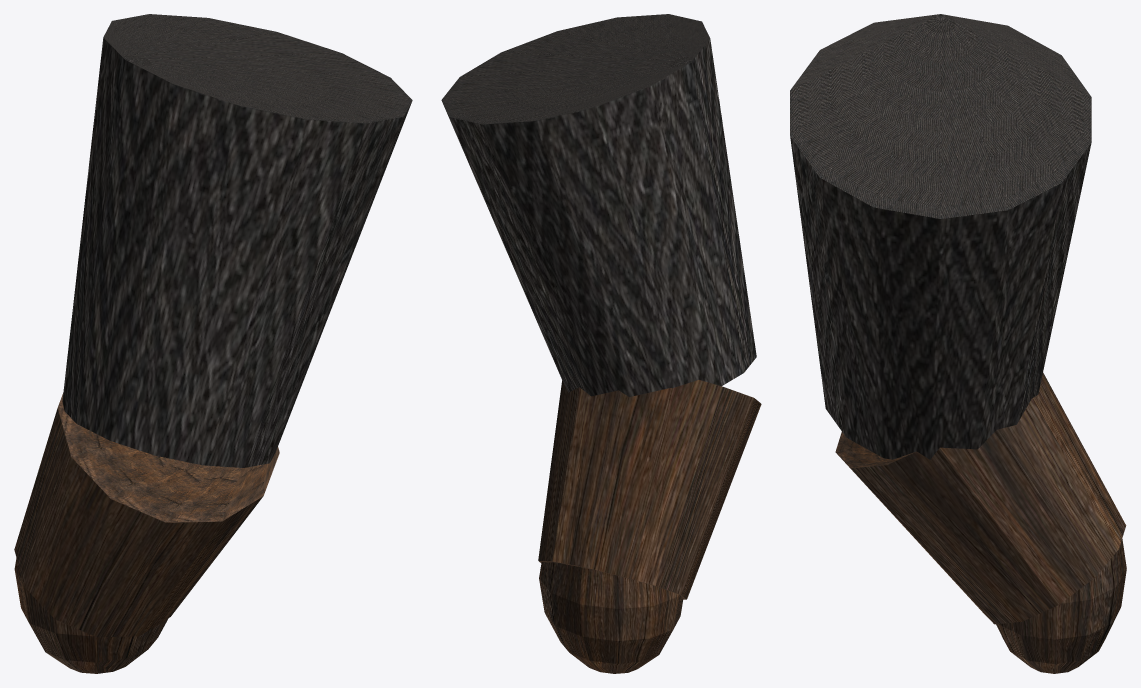
Rendered from sleeve_-1.obj.
The picture shows the model from 3 angles, left to right: view 1: azimuth 30°, elevation 25°; view 2: azimuth 150°, elevation 25°; view 3: azimuth 270°, elevation 25°; orthographic projection. The views are drawn at different scales.
Size of the model in its own units: 0.3389 by 0.6517 by 0.3114.
Materials: 2 (2 with a texture image).
